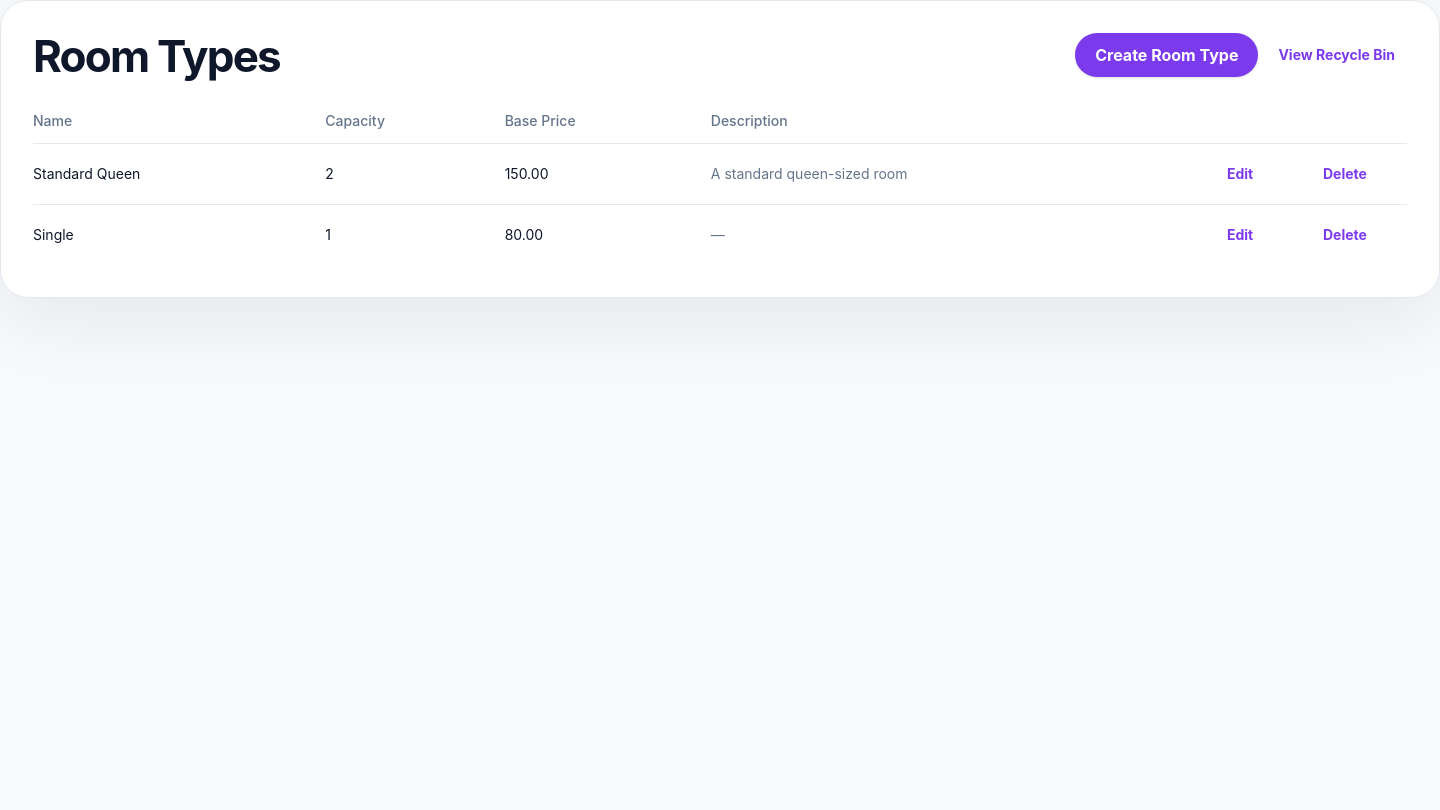
RoomTypesPage › modal create flow › shows validation errors when submitting an empty create form
Click the button "Create Room Type" at (1167, 55), box [1075,33,1258,77]
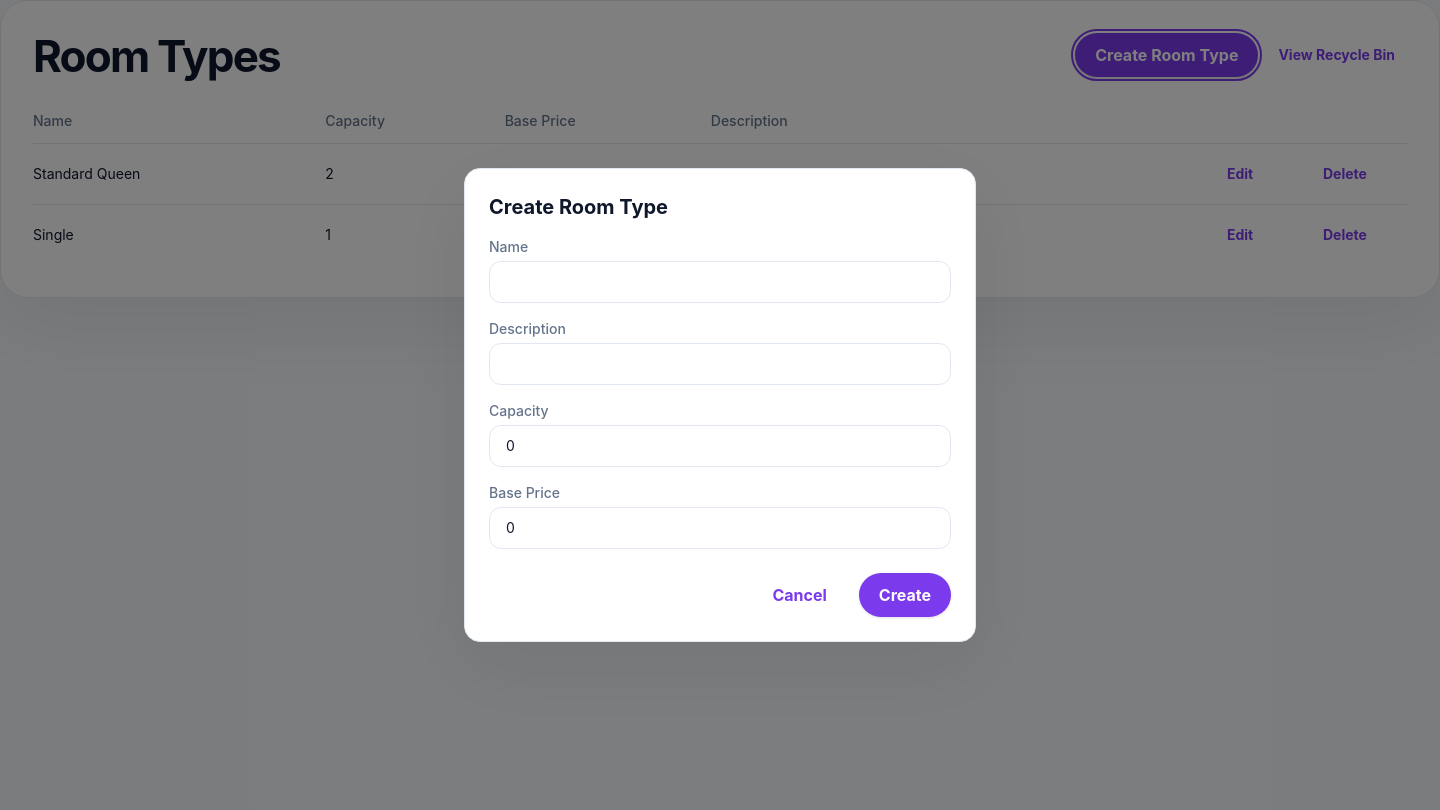
Click the button "Create" at (905, 595), box [859,573,951,617]
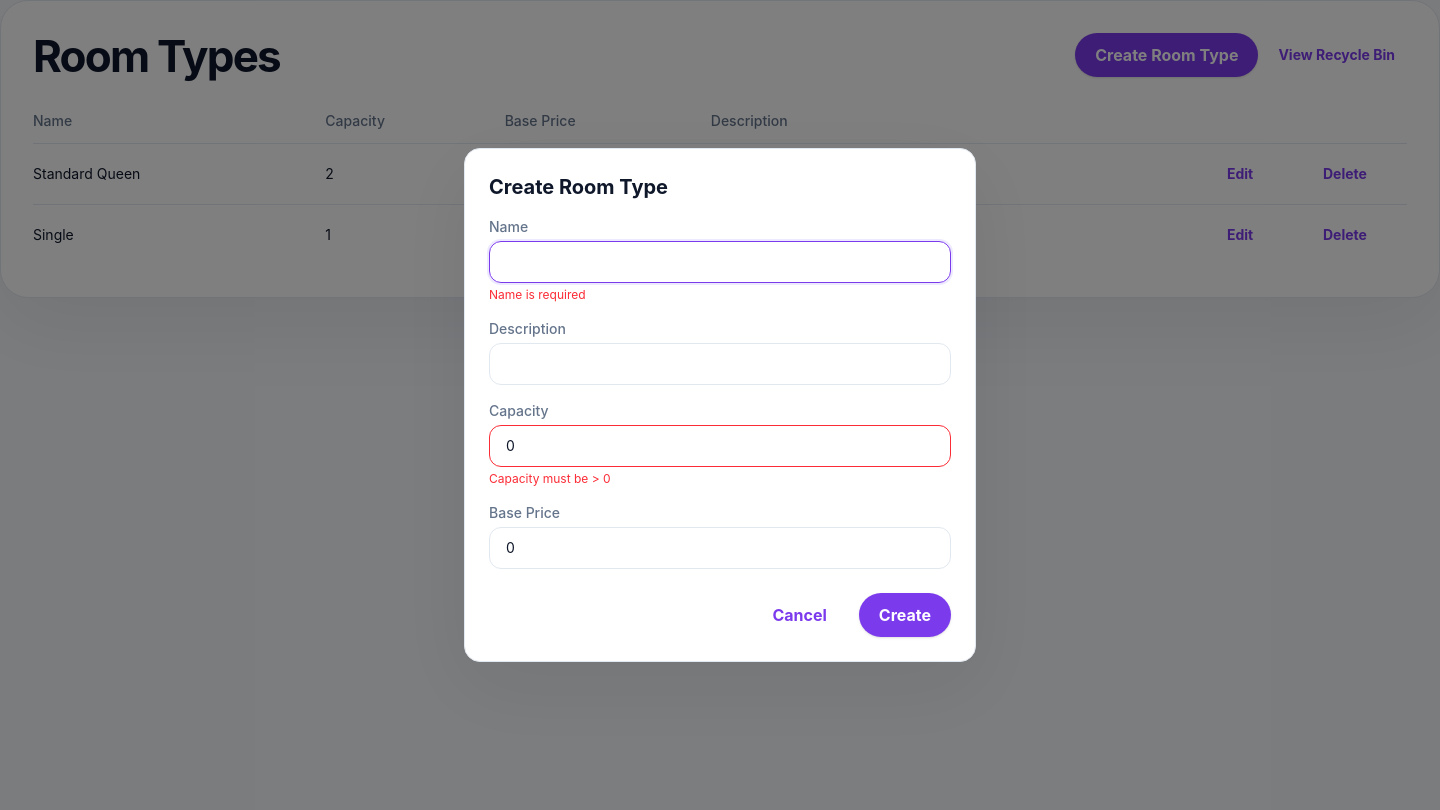
Expected: the text "Name is required" is shown, [489,287,586,302]
